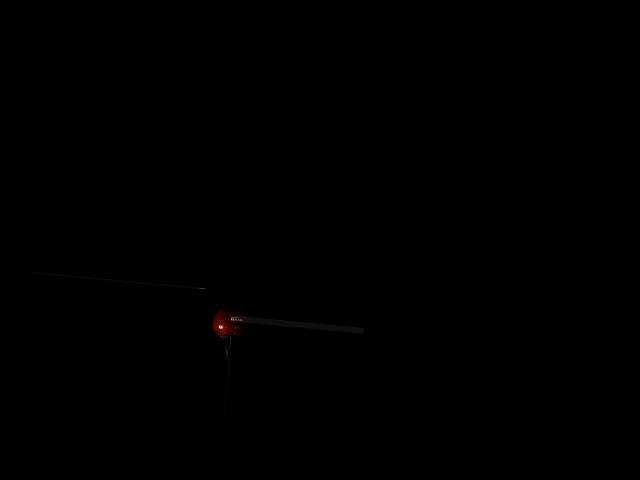tomato: (212, 306, 249, 339)
